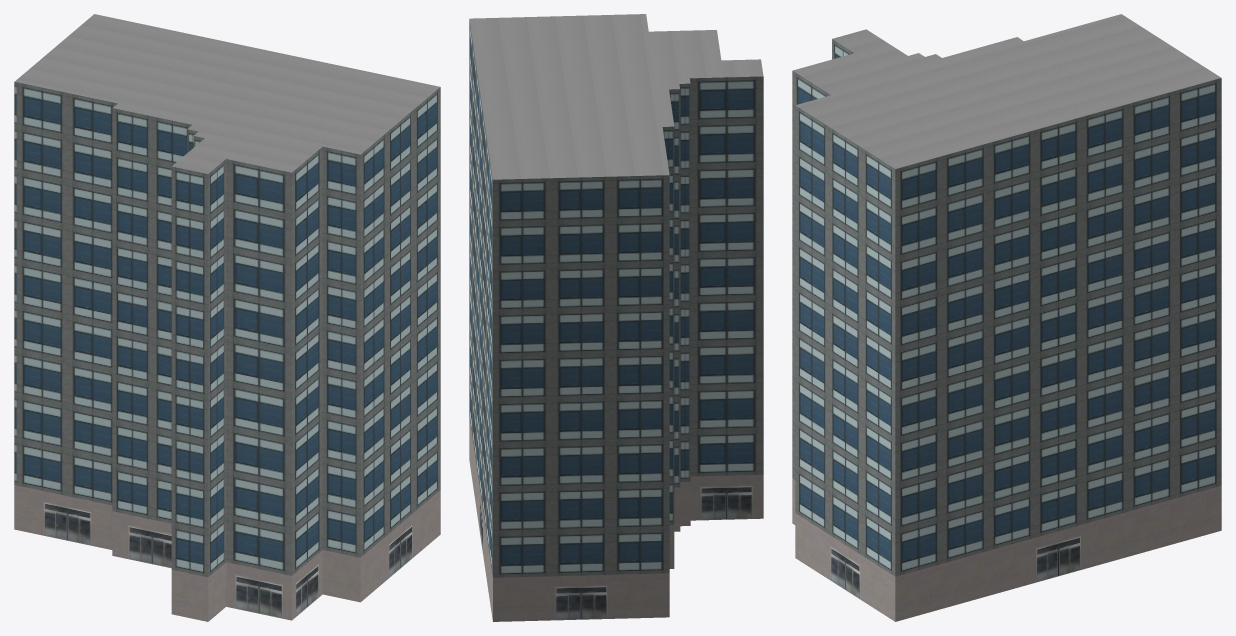
3 renders of one model, left to right at view 1: azimuth 30°, elevation 25°; view 2: azimuth 150°, elevation 25°; view 3: azimuth 270°, elevation 25°, orthographic. The views are drawn at different scales.
Parts seen in each view (by area): view 1: BuildingMaster_1985193707294463504200000000_0, BuildingMaster_1985193707294463504200000000_1; view 2: BuildingMaster_1985193707294463504200000000_0, BuildingMaster_1985193707294463504200000000_1; view 3: BuildingMaster_1985193707294463504200000000_0, BuildingMaster_1985193707294463504200000000_1.
Part boxes in pixels (x1=…): BuildingMaster_1985193707294463504200000000_0: x1=14, y1=82, x2=440, y2=621; BuildingMaster_1985193707294463504200000000_1: x1=14, y1=14, x2=439, y2=173; BuildingMaster_1985193707294463504200000000_0: x1=469, y1=19, x2=763, y2=621; BuildingMaster_1985193707294463504200000000_1: x1=469, y1=14, x2=763, y2=179; BuildingMaster_1985193707294463504200000000_0: x1=792, y1=39, x2=1221, y2=621; BuildingMaster_1985193707294463504200000000_1: x1=793, y1=14, x2=1220, y2=168.
Size of the model in its own units: 25.72 by 35 by 30.06.
Materials: 2 (2 with a texture image).
